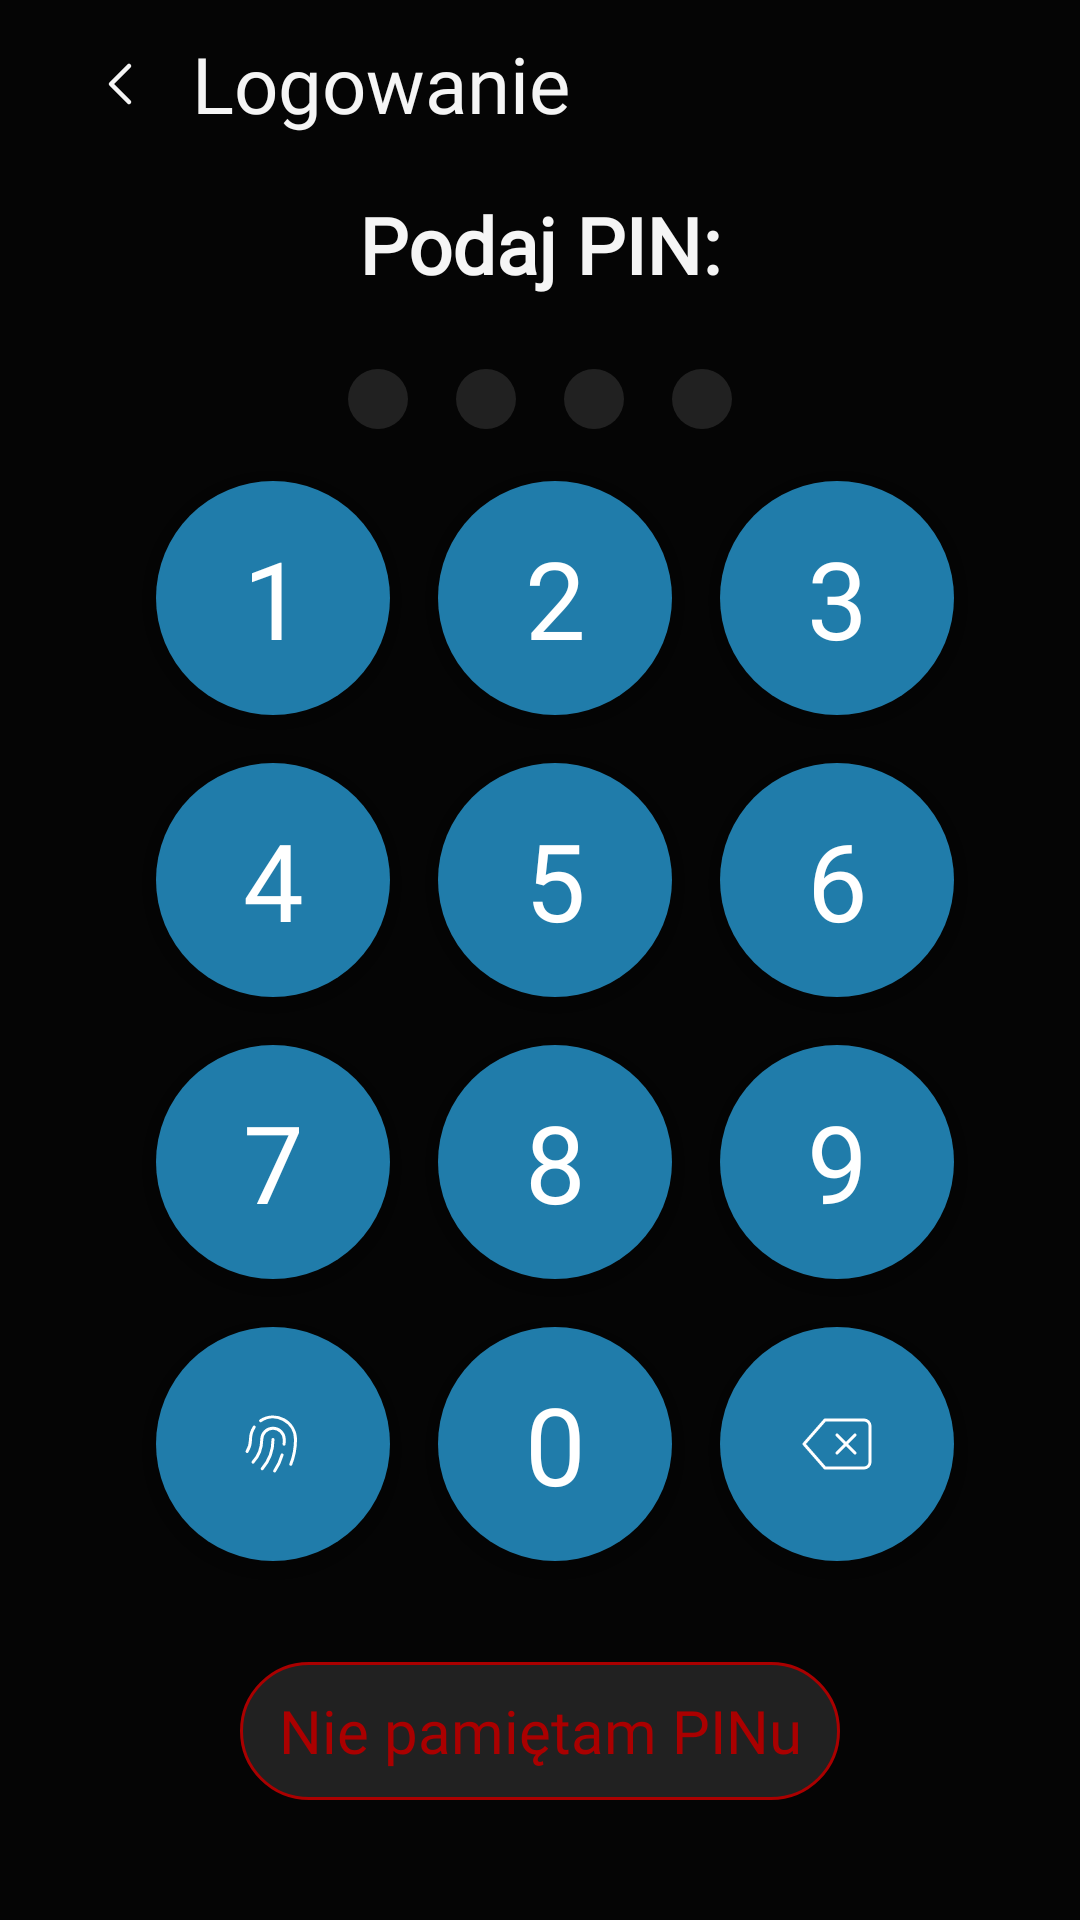

Locate icon controls on the screen. Image size 1080*1920, boxes as {"left": x1, "top": y1, "right": x2, "bottom": y2}.
finger print: {"left": 156, "top": 1327, "right": 390, "bottom": 1561}
Go Back: {"left": 108, "top": 63, "right": 132, "bottom": 105}
